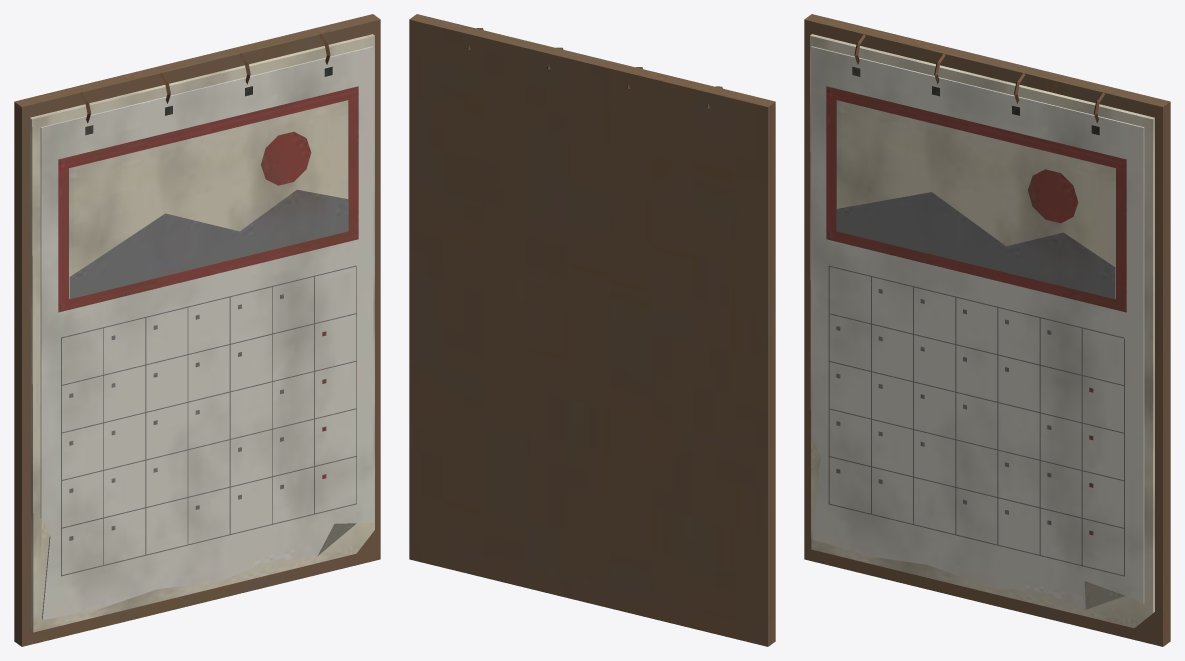
Rendered from L34_wall_calendar.glb.
3 views of the same model, side by side, from view 1: azimuth 30°, elevation 25°; view 2: azimuth 150°, elevation 25°; view 3: azimuth 330°, elevation 25° (orthographic).
Parts seen in each view (by area): view 1: Dark exposed cardboard backing; view 2: Dark exposed cardboard backing; view 3: Dark exposed cardboard backing.
Part boxes in pixels (x1=…): Dark exposed cardboard backing: x1=14, y1=14, x2=380, y2=646; Dark exposed cardboard backing: x1=409, y1=14, x2=775, y2=646; Dark exposed cardboard backing: x1=804, y1=14, x2=1170, y2=646.
Size of the model in its own units: 0.2781 by 0.4 by 0.0334.
Materials: 7 (7 with a texture image).
